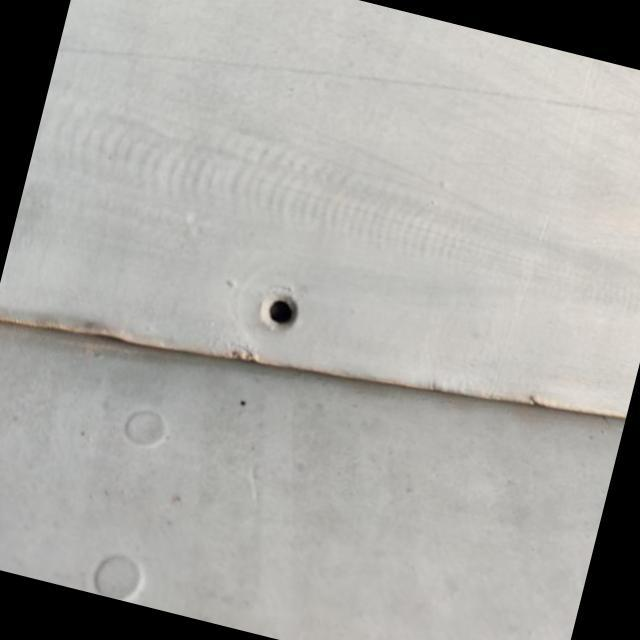Fastener Damage: (226, 254, 336, 366)
